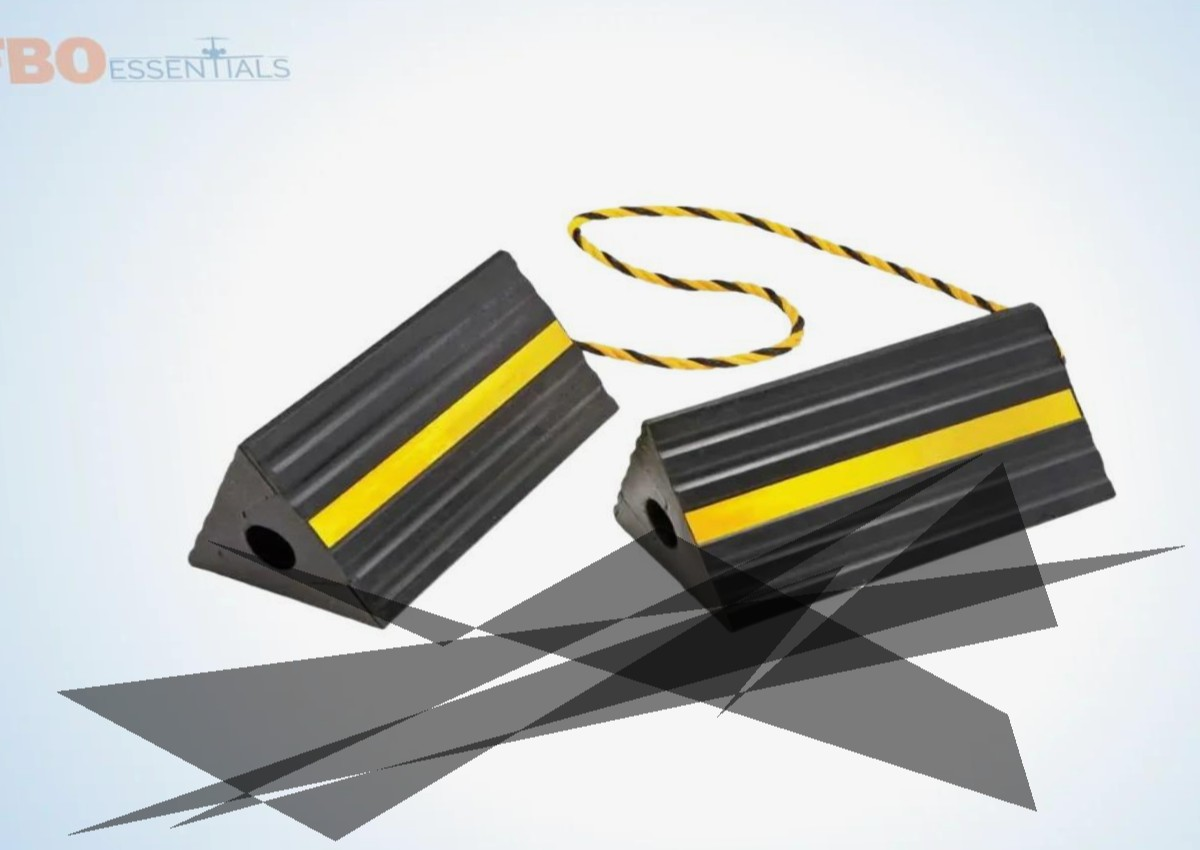chock: (147, 238, 648, 641), (592, 292, 1136, 641)
